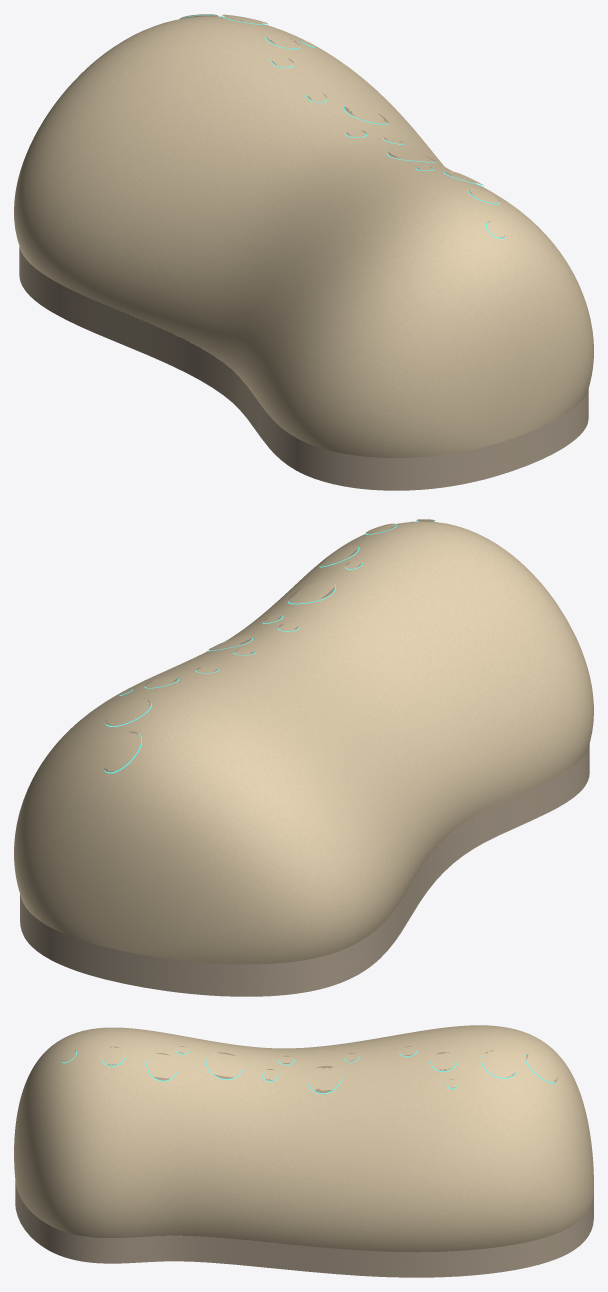
File: museo_nascere_test.glb
3 views of the same model, one above another, from view 1: azimuth 30°, elevation 25°; view 2: azimuth 150°, elevation 25°; view 3: azimuth 270°, elevation 25° (orthographic). The views are drawn at different scales.
Visible parts, largest first — view 1: base, suelo, agujeros3; view 2: base, suelo, agujeros3; view 3: base, suelo, agujeros3.
Boxes of the visible parts, <box> form: base: <box>14,16,593,457</box>; suelo: <box>19,246,588,490</box>; agujeros3: <box>180,14,505,237</box>; base: <box>14,521,593,964</box>; suelo: <box>20,744,589,996</box>; agujeros3: <box>101,519,435,772</box>; base: <box>14,1025,593,1252</box>; suelo: <box>15,1181,593,1277</box>; agujeros3: <box>61,1046,557,1092</box>.
Bounding box in the file's own units: 5.84 × 3.64 × 10.69.
Materials: 13 (4 with a texture image).
